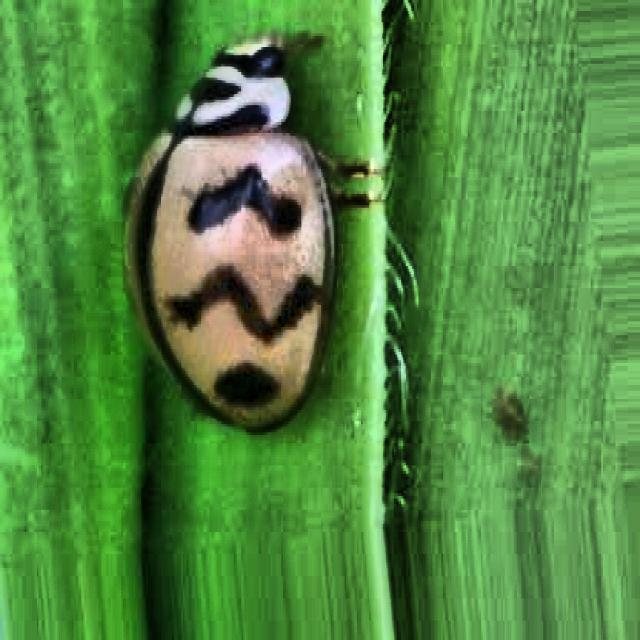Asian-Lady-beetle: (82, 9, 414, 497)
